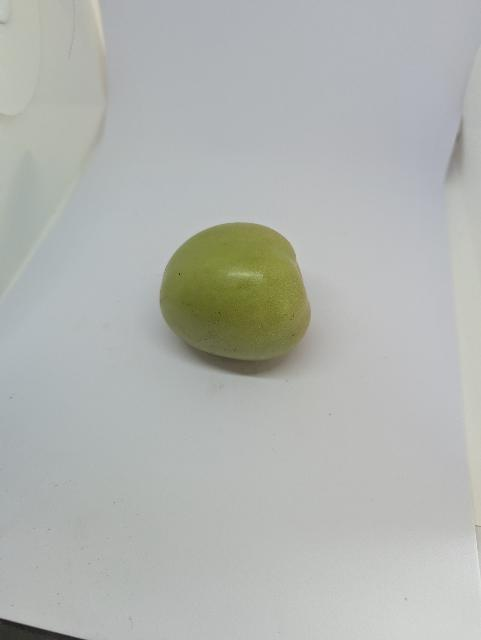green: (148, 207, 320, 382)
